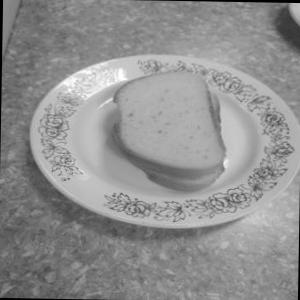bread: (106, 43, 231, 198)
